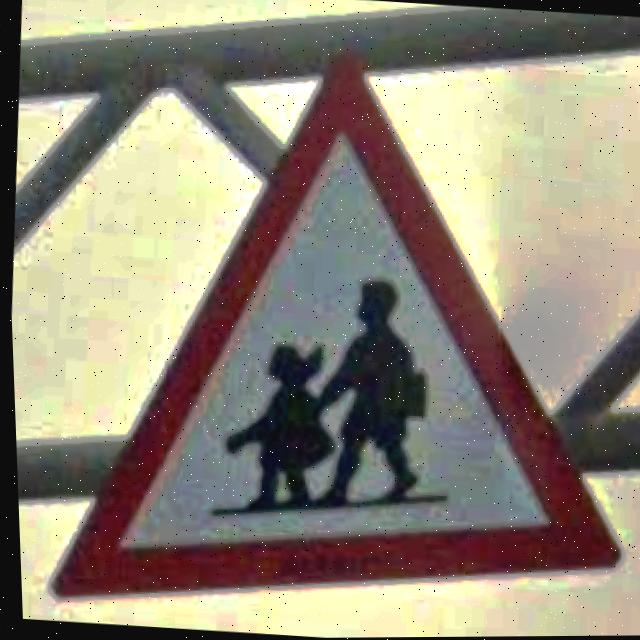childrencross: (48, 57, 616, 597)
